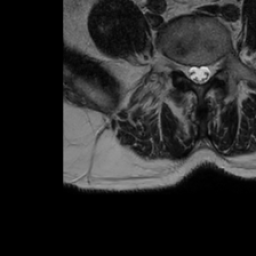CCS_normal: (194, 56, 203, 90)
LFS_normal: (211, 52, 220, 79)
LLS_normal: (203, 56, 211, 88)
RFS_normal: (176, 54, 185, 78)
RLS_normal: (185, 57, 194, 88)
